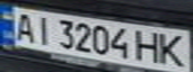0: (90, 22, 112, 56)
2: (72, 20, 93, 54)
3: (51, 17, 75, 51)
4: (109, 25, 133, 60)
A: (9, 10, 39, 43)
H: (133, 28, 163, 64)
I: (30, 13, 57, 46)
K: (154, 31, 190, 69)
